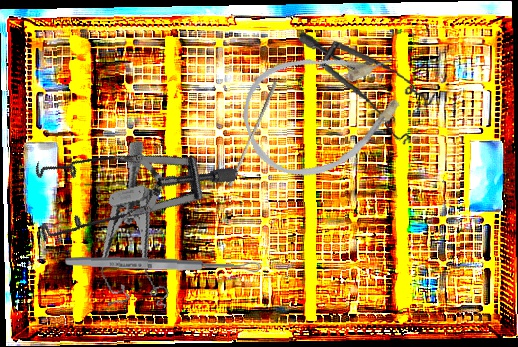Cannula: (230, 28, 421, 192)
Pusher: (227, 80, 278, 188)
Speculum: (8, 90, 240, 306), (71, 140, 183, 321), (284, 30, 443, 149)
Surgical Spoon: (64, 254, 261, 275)
